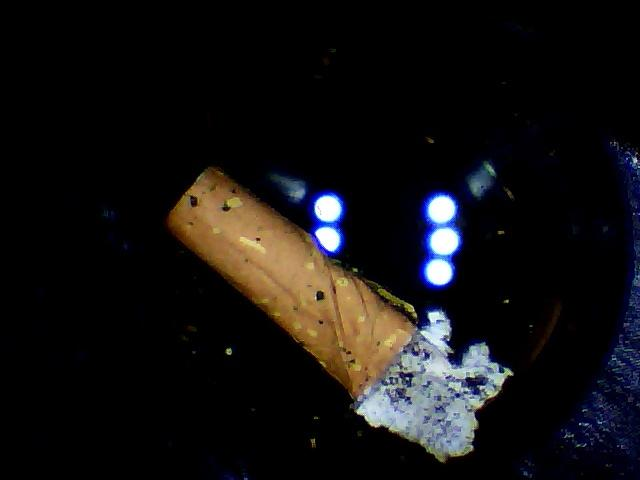megot: (151, 152, 518, 467)
